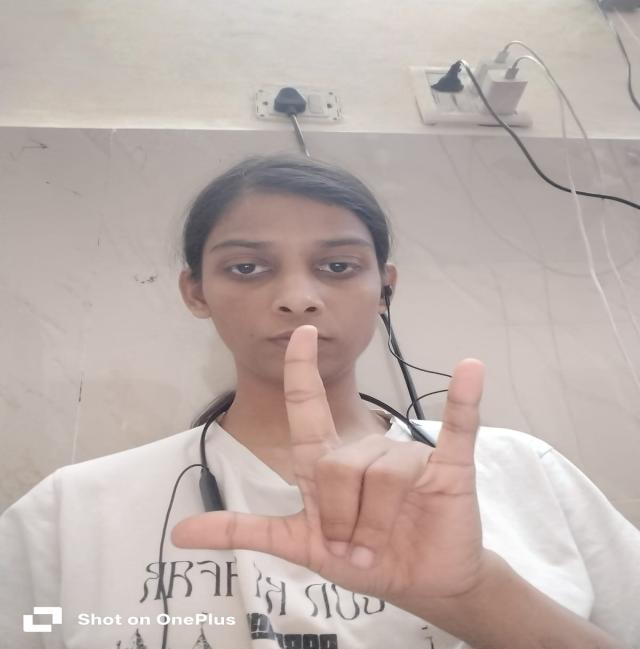I Love You: (163, 311, 507, 610)
